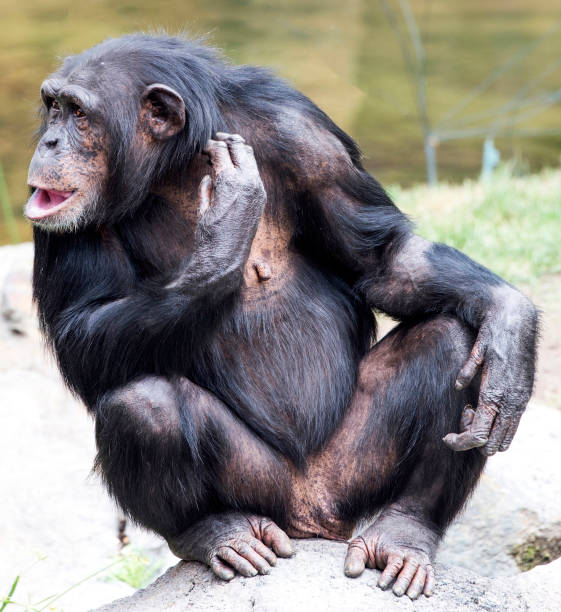chimpanzee: (8, 24, 238, 234)
